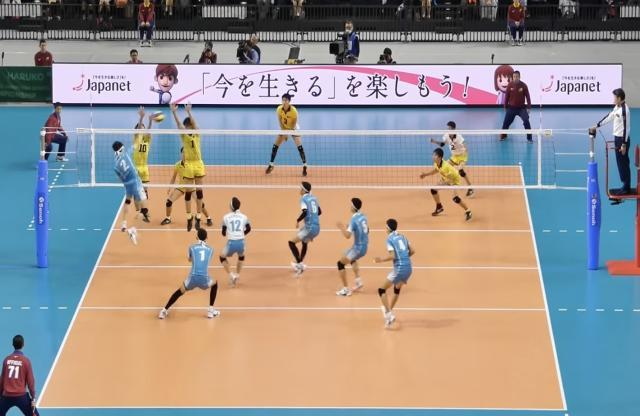spike: (106, 108, 164, 250)
